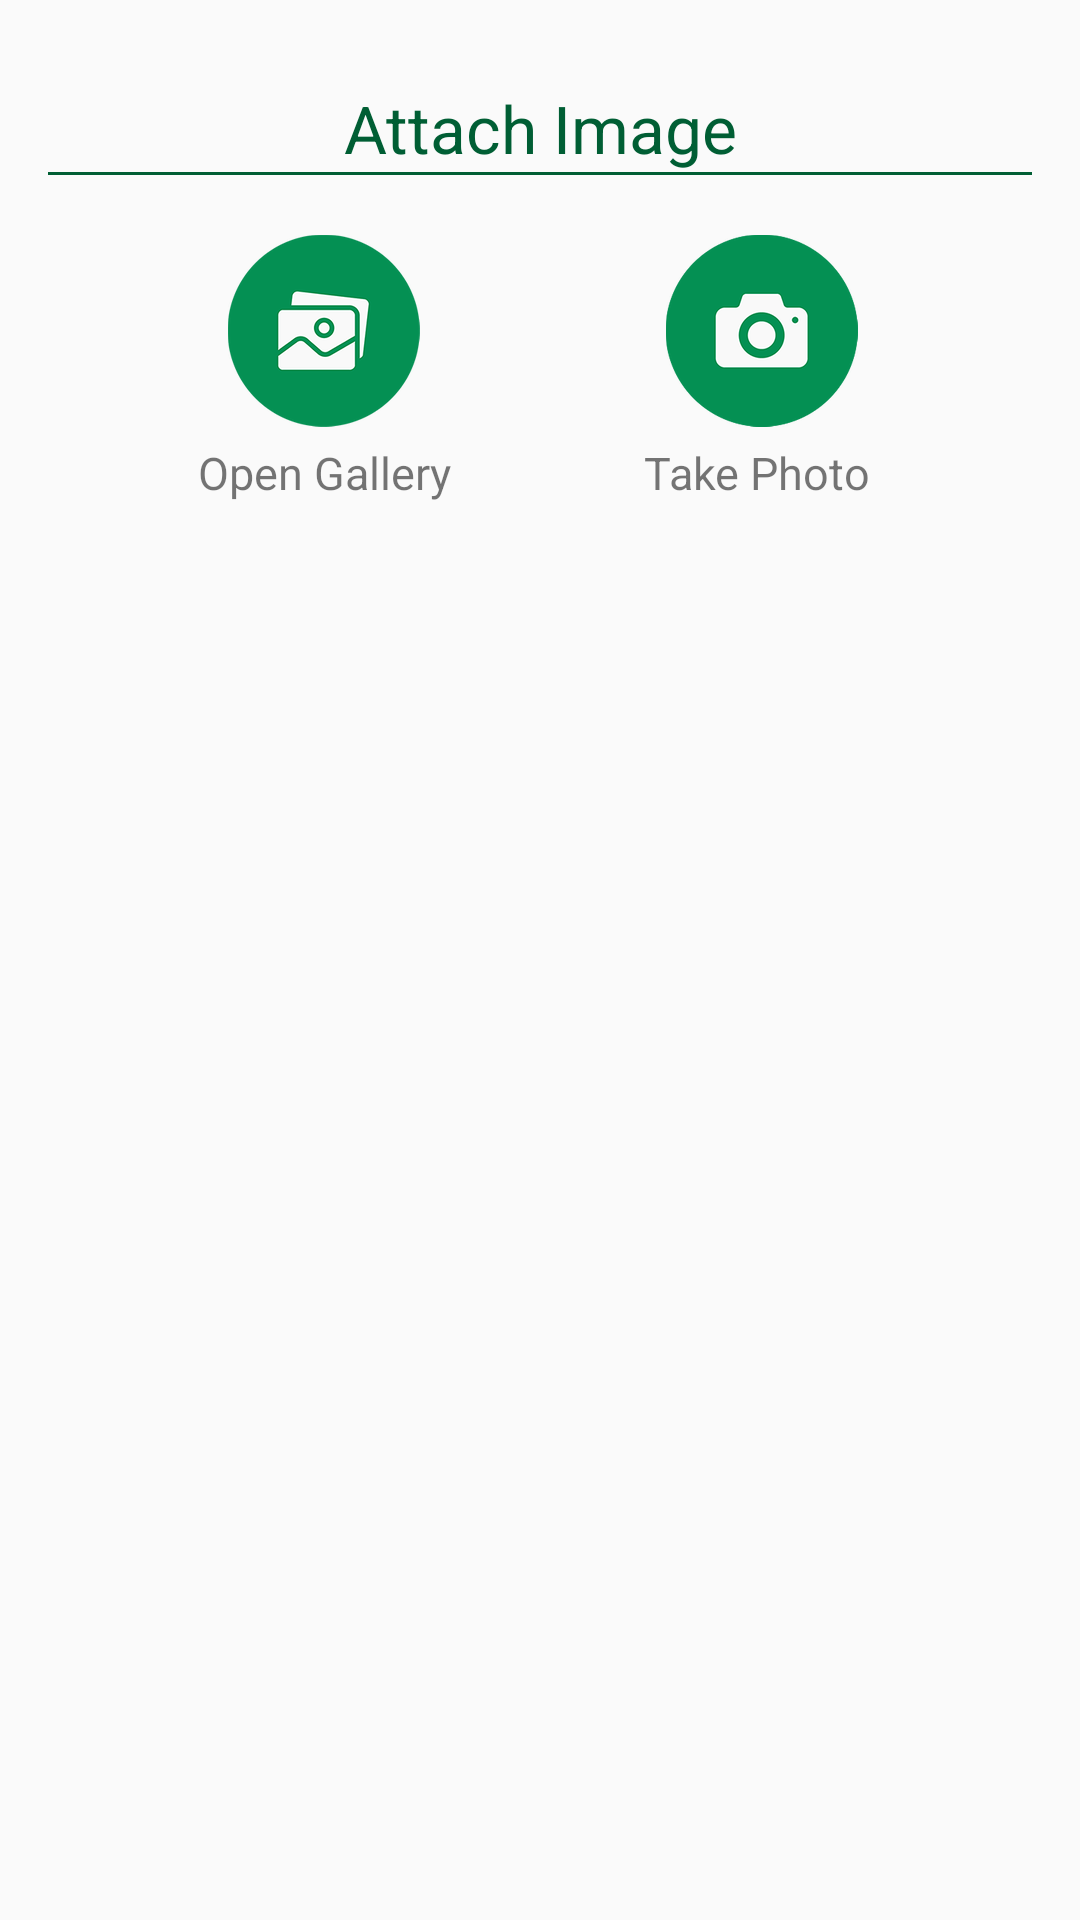

Locate icon controls on the screen. Image size 1080w x 1920h, boxes as (x1, y1, x2, y2).
cmera: (666, 235, 858, 427)
